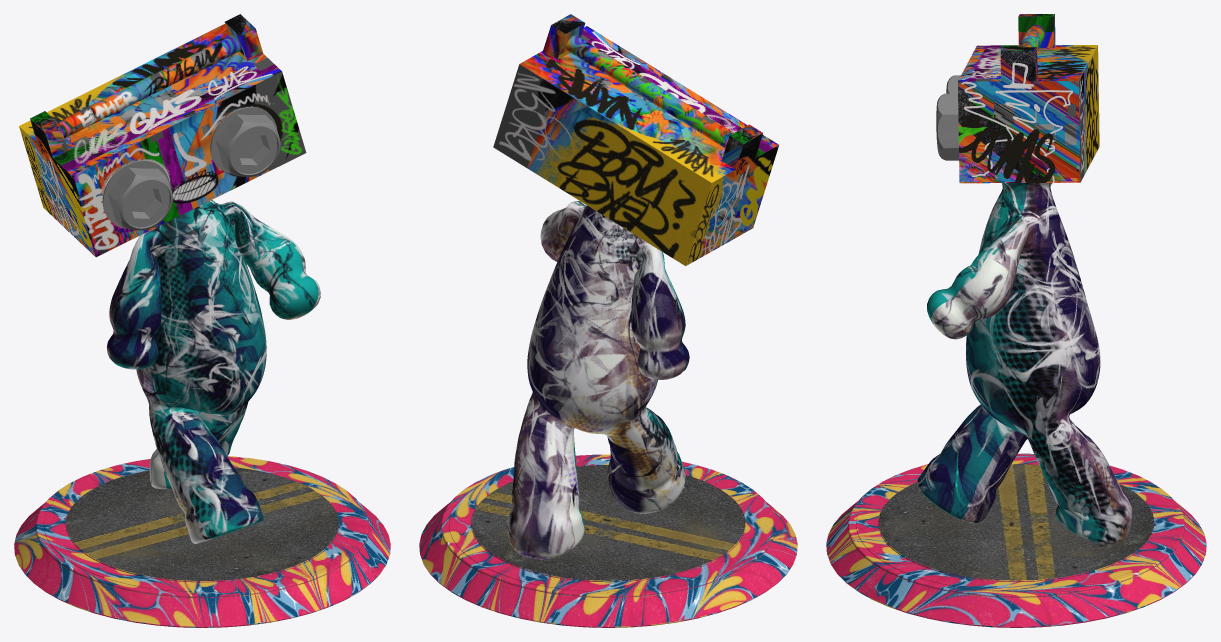
3 renders of one model, left to right at view 1: azimuth 30°, elevation 25°; view 2: azimuth 150°, elevation 25°; view 3: azimuth 270°, elevation 25°, orthographic.
Parts seen in each view (by area): view 1: BBody; view 2: BBody; view 3: BBody.
Part boxes in pixels (bbox=[...]): BBody: bbox=[14, 14, 390, 627]; BBody: bbox=[419, 14, 797, 627]; BBody: bbox=[826, 14, 1206, 627].
Bounding box in the file's own units: 1.45 × 2.19 × 1.45.
5 materials, 4 textured.
